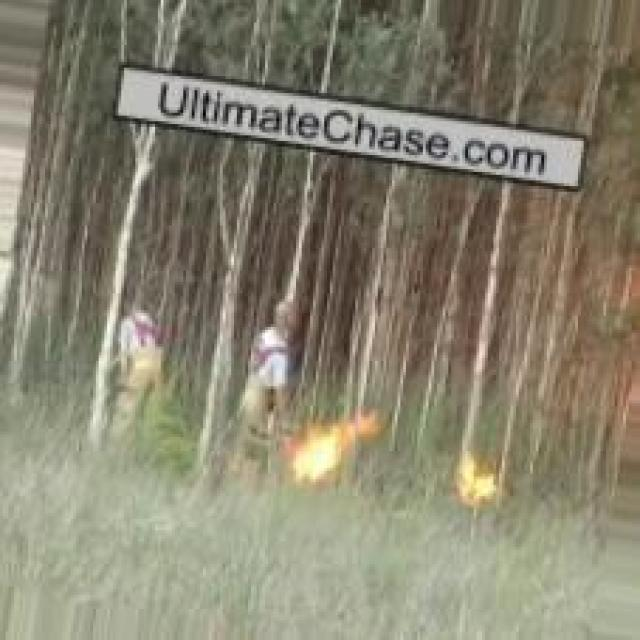fire: (270, 394, 397, 485), (448, 450, 509, 508)
